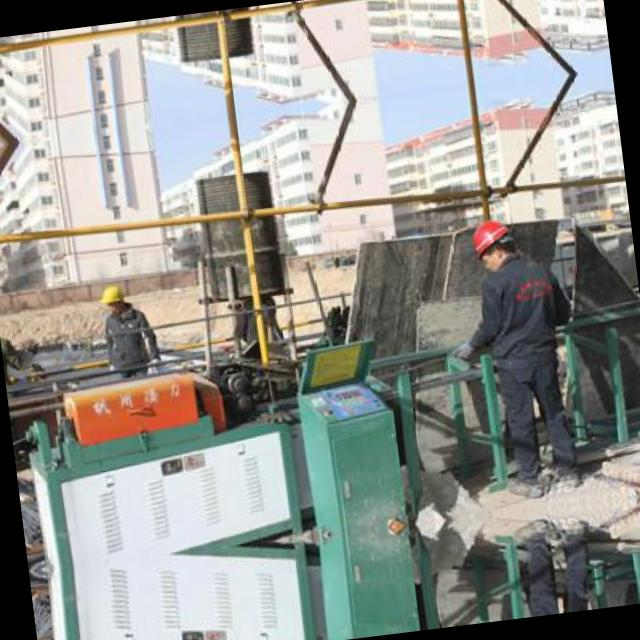helmet: (464, 216, 520, 274), (94, 276, 131, 318)
